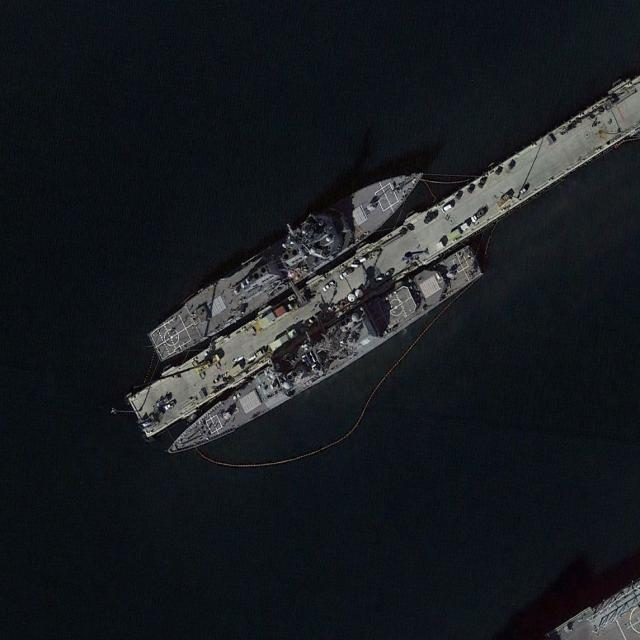ship: (166, 242, 487, 457), (146, 168, 426, 359)
